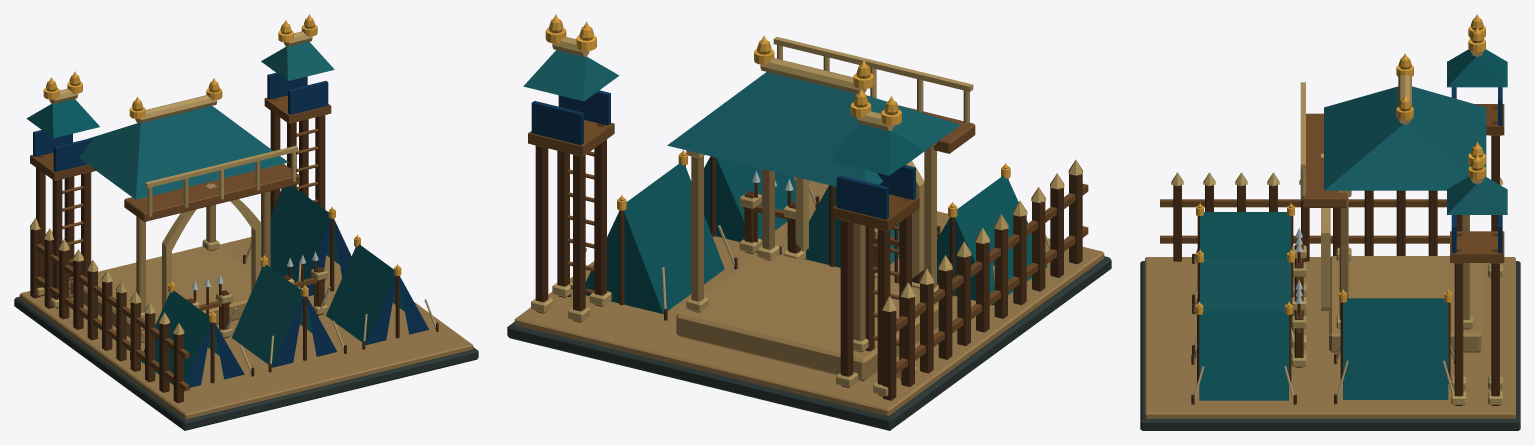
3 views of the same model, side by side, from view 1: azimuth 30°, elevation 25°; view 2: azimuth 150°, elevation 25°; view 3: azimuth 270°, elevation 25° (orthographic). The views are drawn at different scales.
Parts seen in each view (by area): view 1: camp_level11_structure, camp_level11_metal; view 2: camp_level11_structure, camp_level11_metal; view 3: camp_level11_structure, camp_level11_metal.
Boxes of the visible parts, left/top/right/bottom form: camp_level11_structure: left=14, top=18, right=478, bottom=430; camp_level11_metal: left=43, top=14, right=401, bottom=322; camp_level11_structure: left=507, top=19, right=1111, bottom=430; camp_level11_metal: left=545, top=14, right=1010, bottom=217; camp_level11_structure: left=1140, top=18, right=1520, bottom=430; camp_level11_metal: left=1195, top=14, right=1485, bottom=314.
Size of the model in its own units: 5.6 by 4.34 by 5.6.
